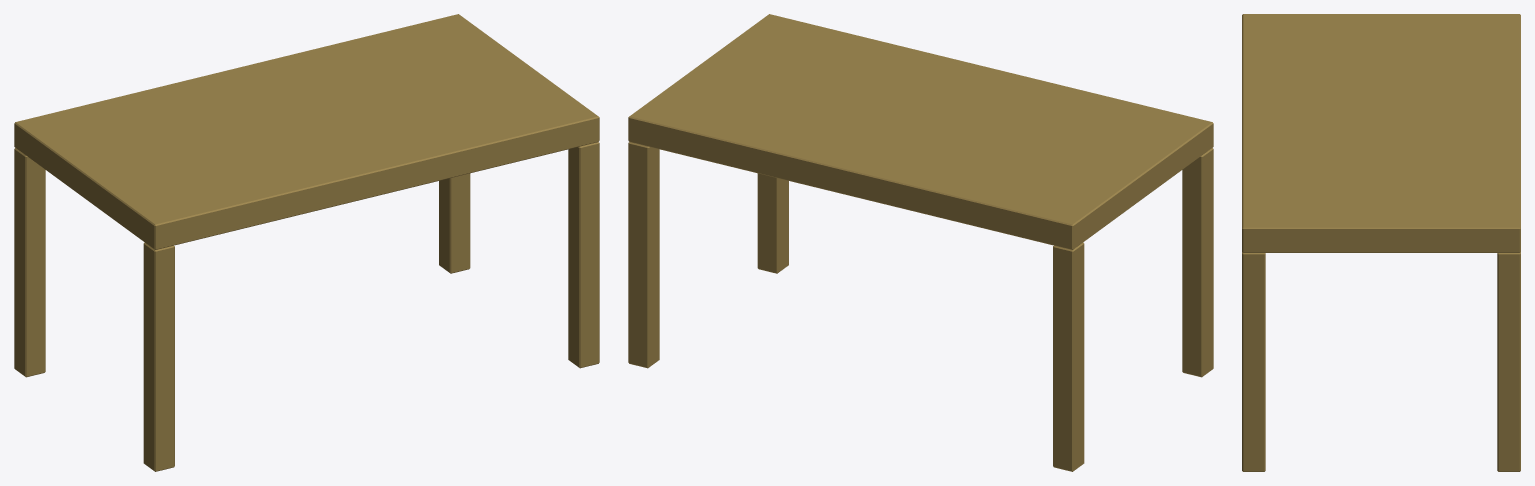
The model's file is TableRoomGeo.fbx.
The picture shows the model from 3 angles, left to right: view 1: azimuth 30°, elevation 25°; view 2: azimuth 150°, elevation 25°; view 3: azimuth 270°, elevation 25°; orthographic projection.
Visible parts, largest first — view 1: TableRoomGeo; view 2: TableRoomGeo; view 3: TableRoomGeo.
Boxes of the visible parts, x1=… form: TableRoomGeo: x1=14, y1=14, x2=599, y2=471; TableRoomGeo: x1=628, y1=14, x2=1213, y2=471; TableRoomGeo: x1=1242, y1=14, x2=1520, y2=471.
Bounding box in the file's own units: 341 × 181 × 187.
